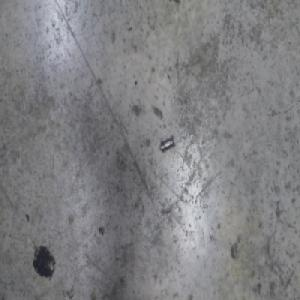Bolt: (159, 134, 175, 153)
